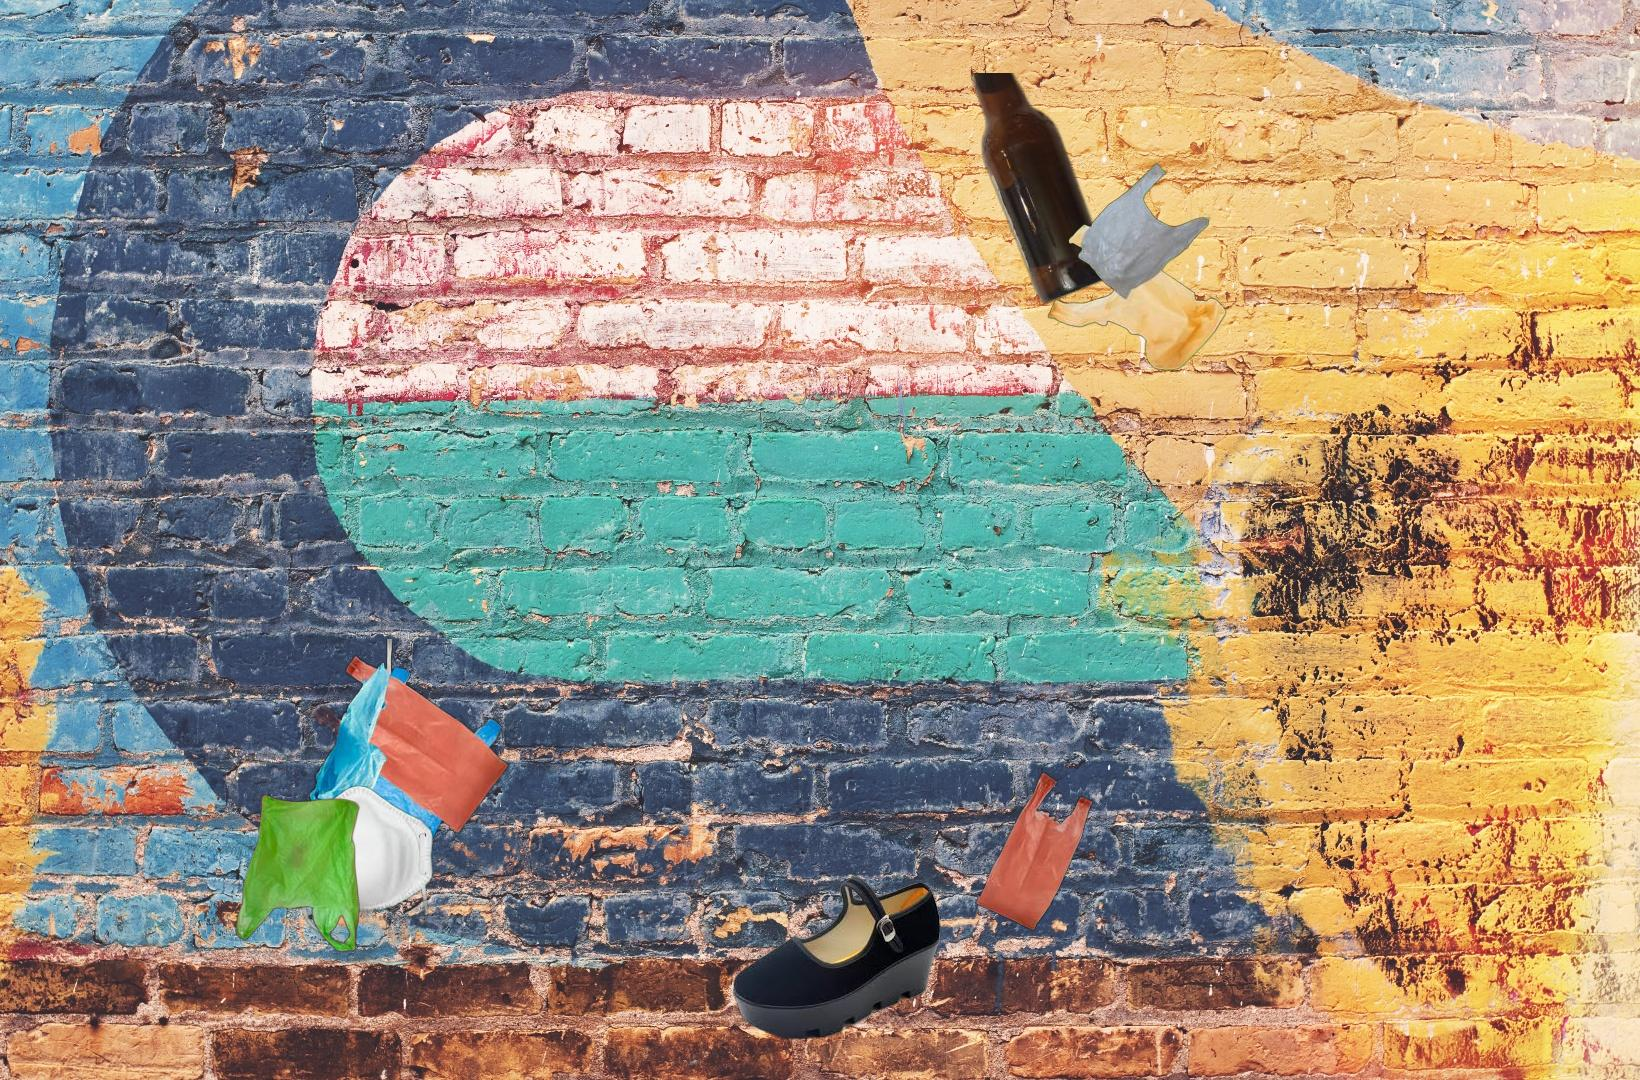glass: (968, 74, 1119, 306)
penholder: (523, 1073, 1640, 1080)
plastic-bag: (239, 639, 510, 871), (1045, 162, 1229, 372), (221, 788, 361, 953), (972, 769, 1097, 932)
shoes: (730, 874, 944, 1041)
trash: (253, 783, 446, 988)
